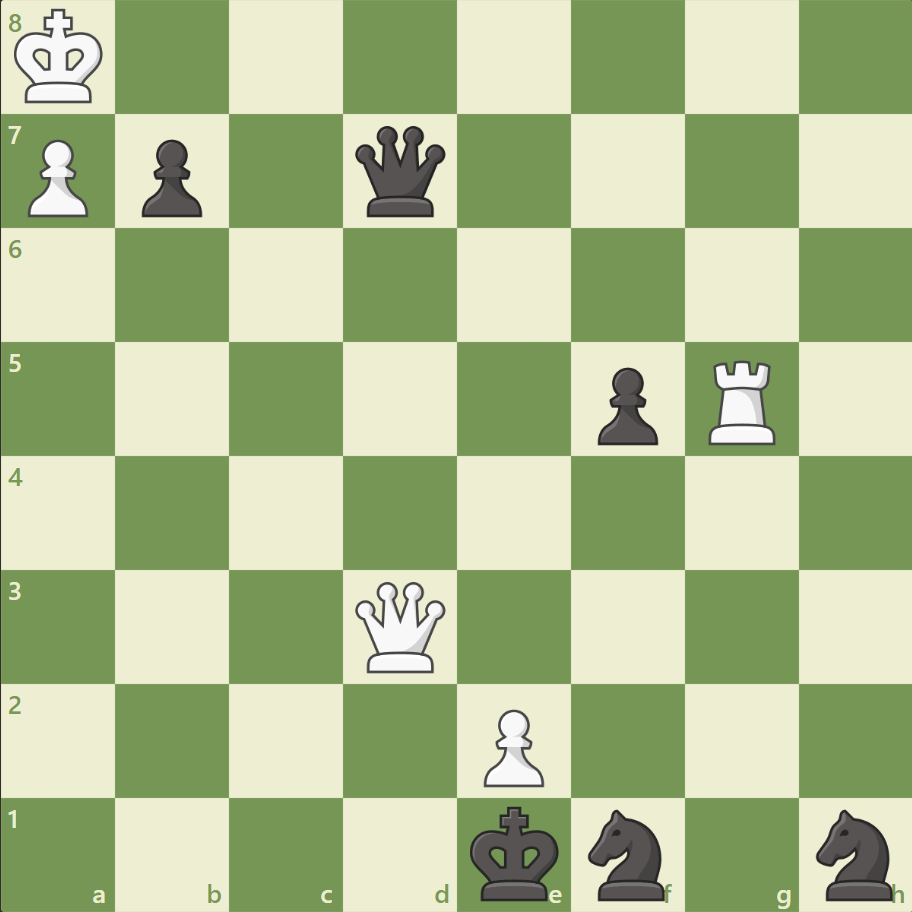K: (11, 4, 111, 112)
P: (20, 132, 95, 223), (474, 700, 549, 791)
Q: (351, 576, 450, 676)
R: (700, 352, 783, 449)
k: (465, 798, 565, 906)
n: (579, 802, 676, 904), (806, 802, 903, 904)
p: (133, 132, 208, 223), (588, 359, 662, 450)
q: (351, 122, 450, 222)
